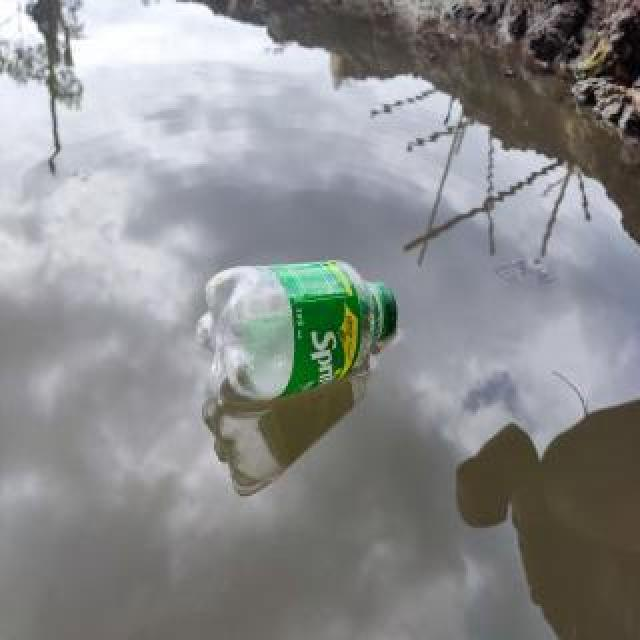bottle: (192, 257, 402, 409)
